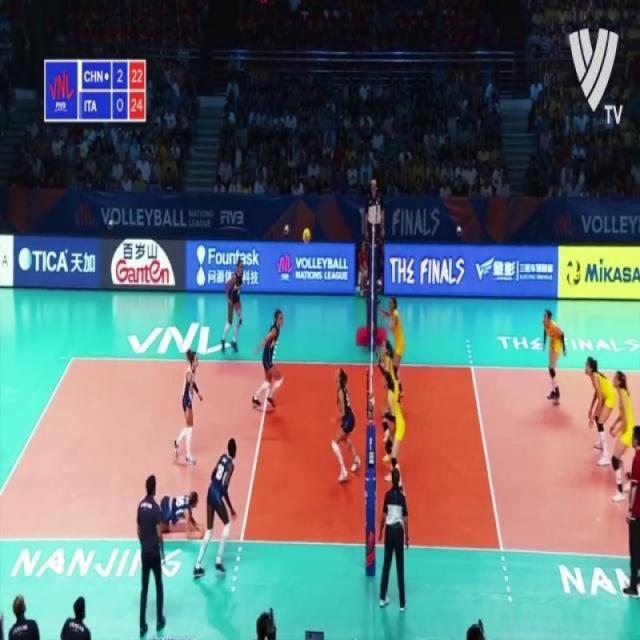volleyball: (566, 256, 582, 288), (302, 226, 312, 246)
